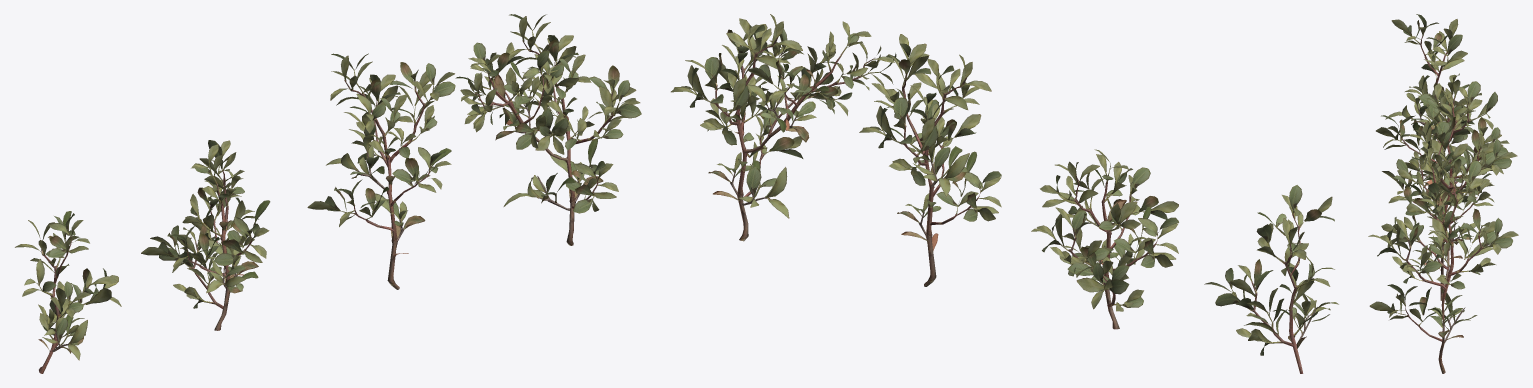
The model's file is shrub_04.glb.
3 views of the same model, side by side, from view 1: azimuth 30°, elevation 25°; view 2: azimuth 150°, elevation 25°; view 3: azimuth 270°, elevation 25° (orthographic). The views are drawn at different scales.
Parts seen in each view (by area): view 1: shrub_04; view 2: shrub_04; view 3: shrub_04.
Boxes of the visible parts, <box> form: shrub_04: <box>15,14,641,373</box>; shrub_04: <box>671,14,1338,373</box>; shrub_04: <box>1368,14,1518,373</box>.
Bounding box in the file's own units: 0.5837 × 0.2192 × 0.1461.
Materials: 1 (1 with a texture image).
